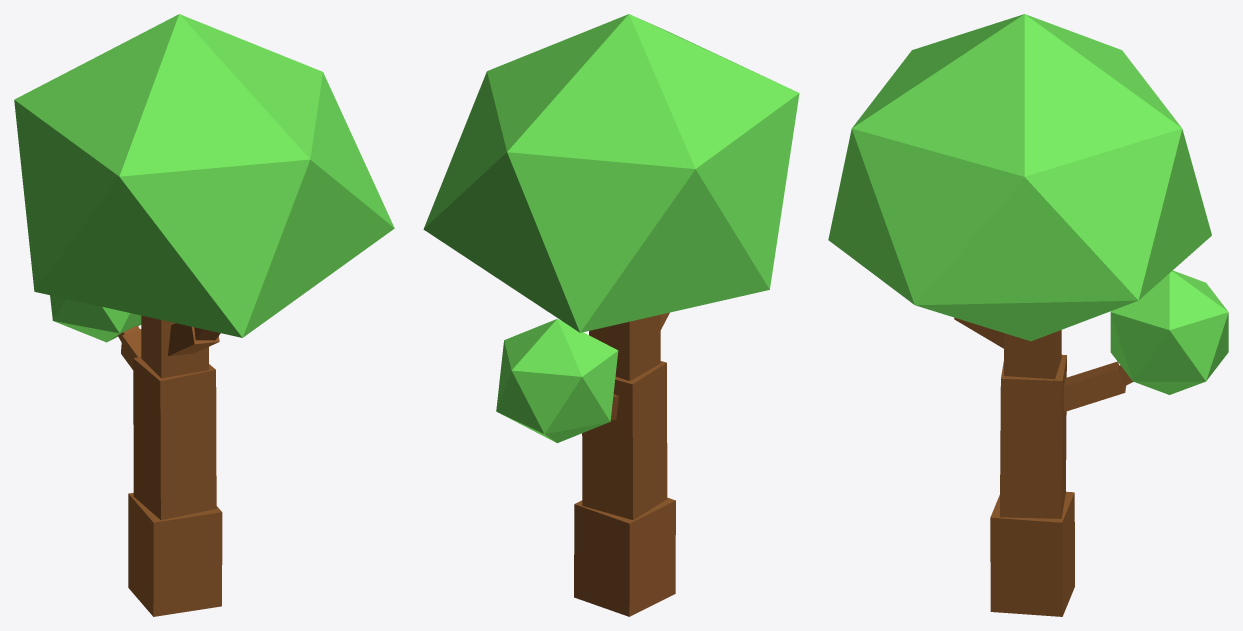
The model's file is Tree3.fbx.
3 views of the same model, side by side, from view 1: azimuth 30°, elevation 25°; view 2: azimuth 150°, elevation 25°; view 3: azimuth 270°, elevation 25° (orthographic).
Visible parts, largest first — view 1: Tree3; view 2: Tree3; view 3: Tree3.
Boxes of the visible parts, x1,y1,x2,y2 form: Tree3: [14, 14, 394, 616]; Tree3: [423, 14, 799, 616]; Tree3: [828, 14, 1228, 616].
Size of the model in its own units: 587 by 1080 by 669.
